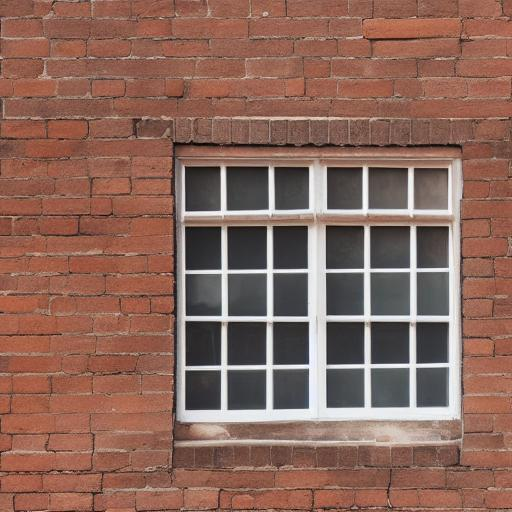Window: (171, 120, 476, 470)
